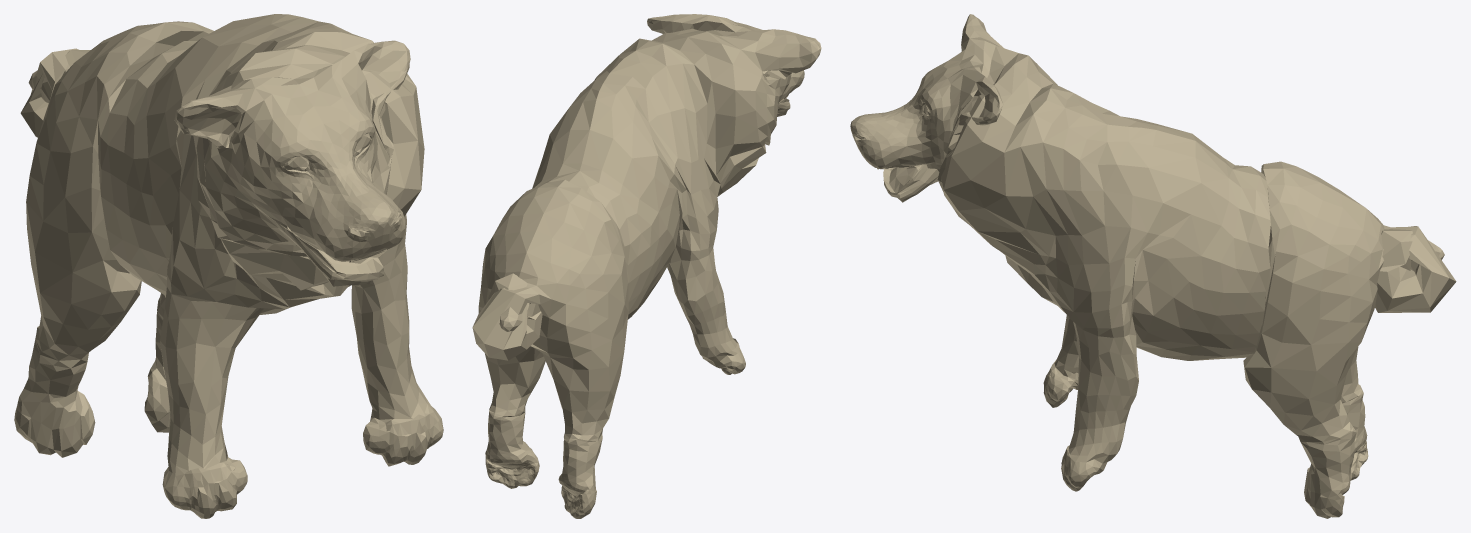
3 views of the same model, side by side, from view 1: azimuth 30°, elevation 25°; view 2: azimuth 150°, elevation 25°; view 3: azimuth 270°, elevation 25° (orthographic). The views are drawn at different scales.
Parts seen in each view (by area): view 1: world; view 2: world; view 3: world.
Boxes of the visible parts, x1,y1,x2,y2 form: world: (14, 14, 443, 518); world: (472, 14, 821, 518); world: (850, 14, 1456, 518).
Size of the model in its own units: 0.5376 by 0.8688 by 1.11.
